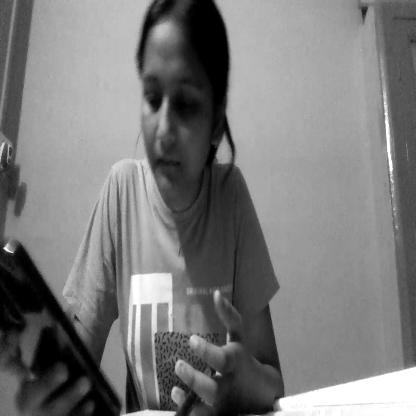Distracted: (130, 2, 231, 200)
